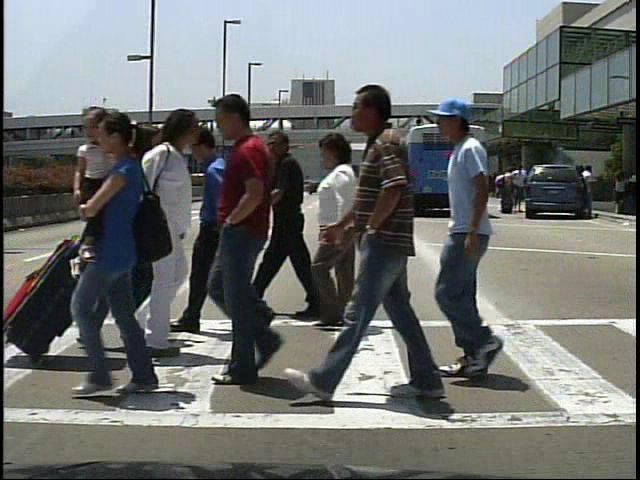person: (331, 84, 466, 424), (98, 109, 210, 367), (207, 93, 300, 386), (437, 103, 524, 380), (168, 123, 262, 346), (293, 135, 379, 333), (255, 125, 328, 323), (114, 117, 170, 361), (99, 192, 141, 330), (582, 166, 602, 218), (498, 166, 516, 219), (513, 165, 529, 215)
